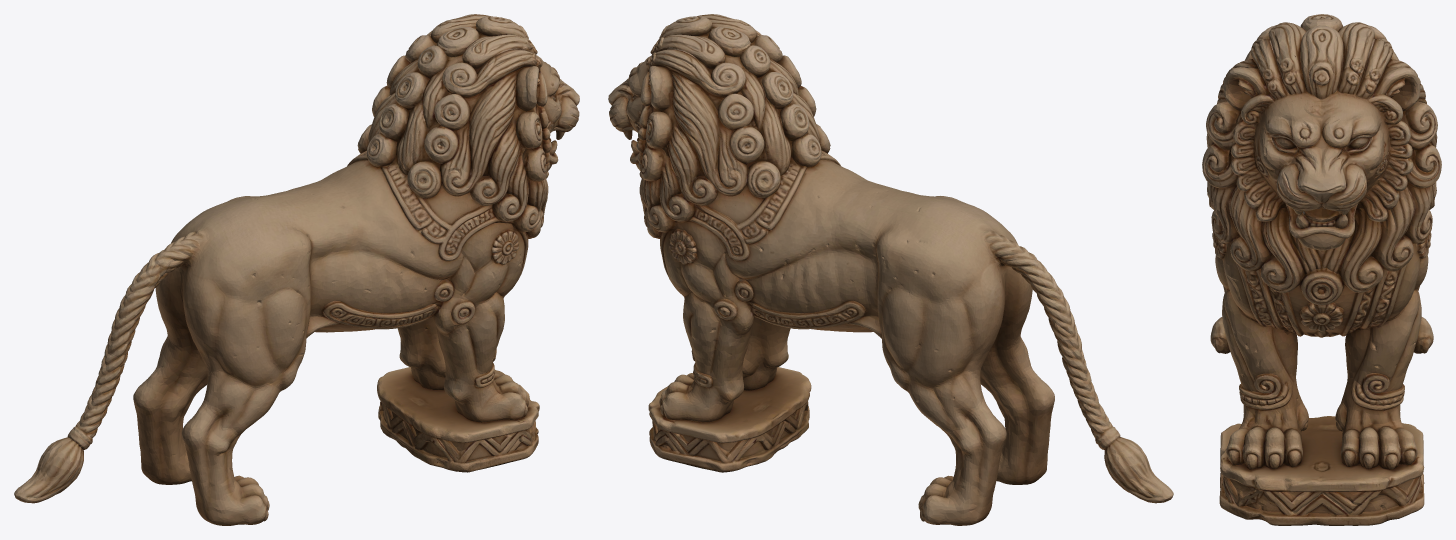
The model's file is sanctuary_lionstatue.glb.
3 renders of one model, left to right at view 1: azimuth 30°, elevation 25°; view 2: azimuth 150°, elevation 25°; view 3: azimuth 270°, elevation 25°, orthographic. The views are drawn at different scales.
Parts seen in each view (by area): view 1: tripo_node_b7618f3a-0dce-475b-a1aa-ffc74334feba; view 2: tripo_node_b7618f3a-0dce-475b-a1aa-ffc74334feba; view 3: tripo_node_b7618f3a-0dce-475b-a1aa-ffc74334feba.
Part boxes in pixels (<box>): tripo_node_b7618f3a-0dce-475b-a1aa-ffc74334feba: <box>14,14,579,525</box>; tripo_node_b7618f3a-0dce-475b-a1aa-ffc74334feba: <box>608,14,1173,525</box>; tripo_node_b7618f3a-0dce-475b-a1aa-ffc74334feba: <box>1202,14,1441,525</box>.
Size of the model in its own units: 1 by 0.6959 by 0.3133.
1 material, 1 textured.
